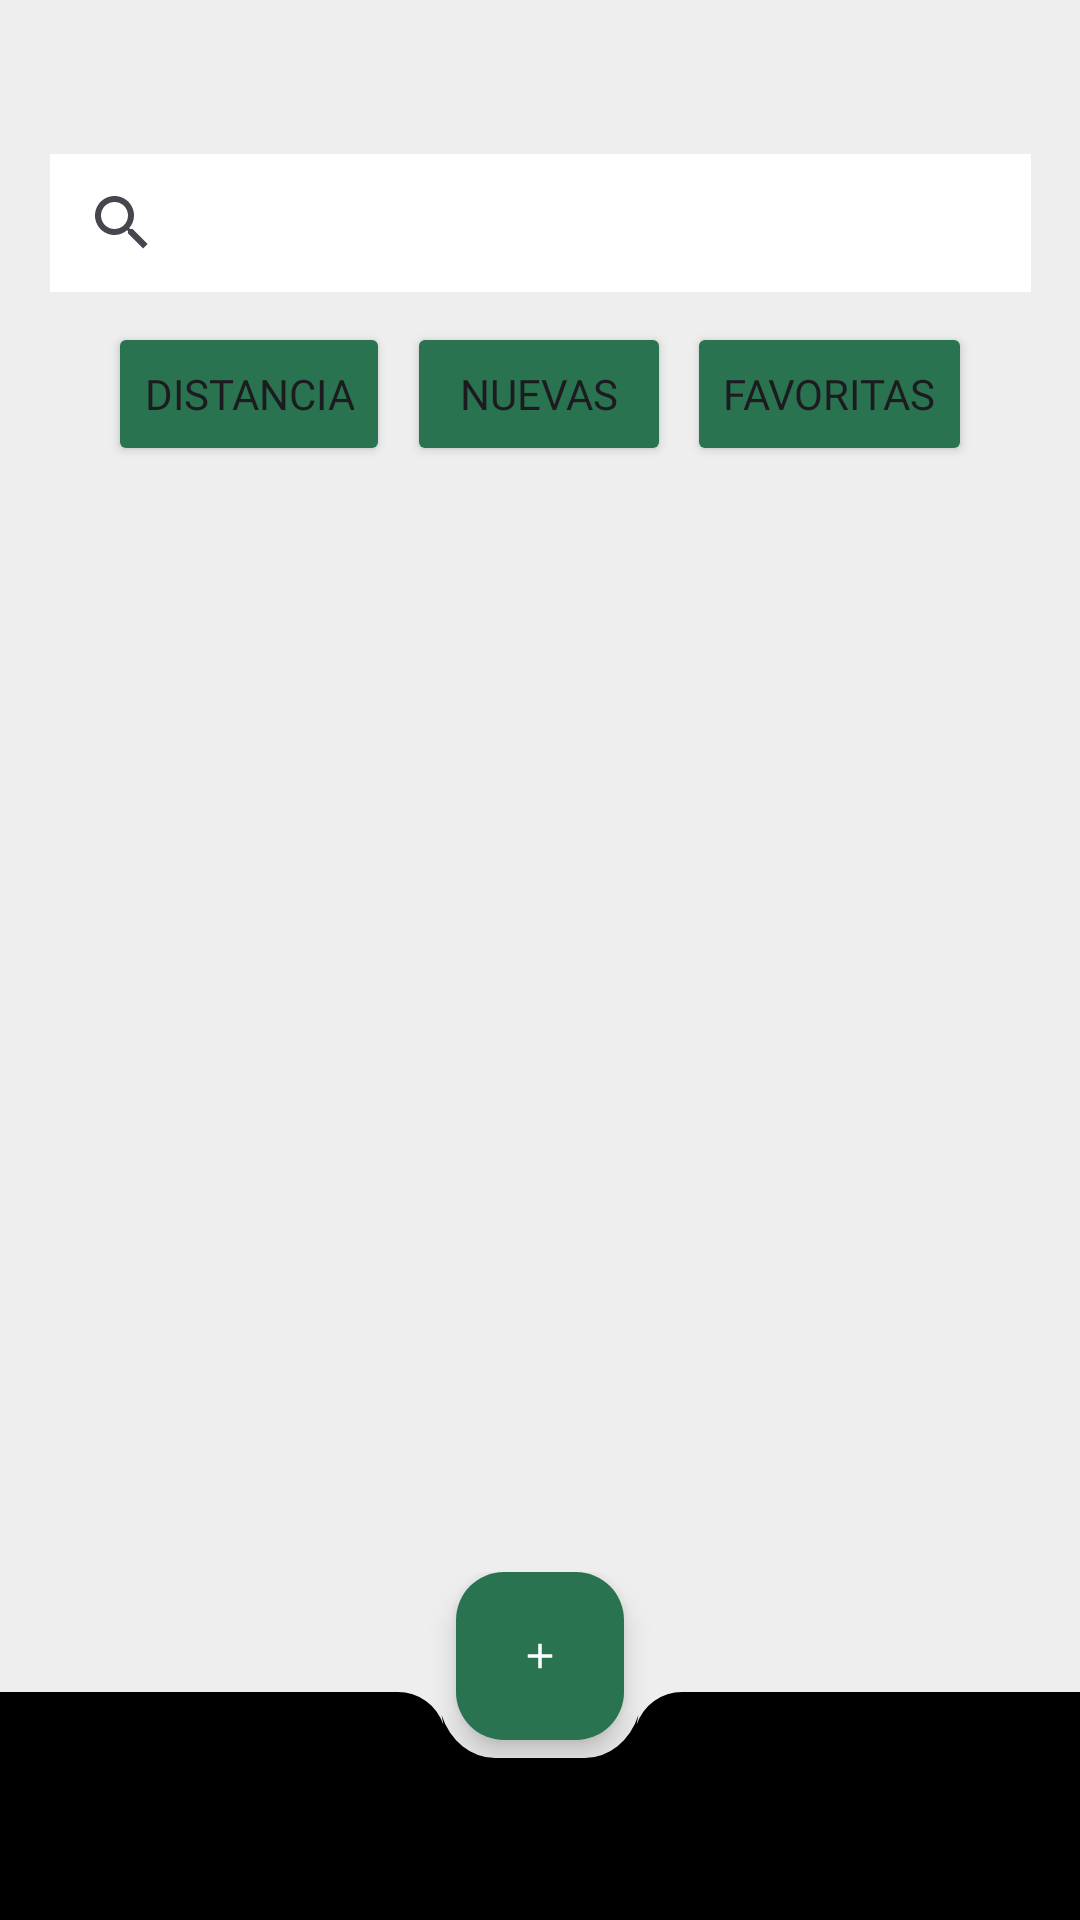

Point at icon controls on the screen. Image size 1080px×1920px, points as (x=x, y=y).
add: (x=540, y=1692)
